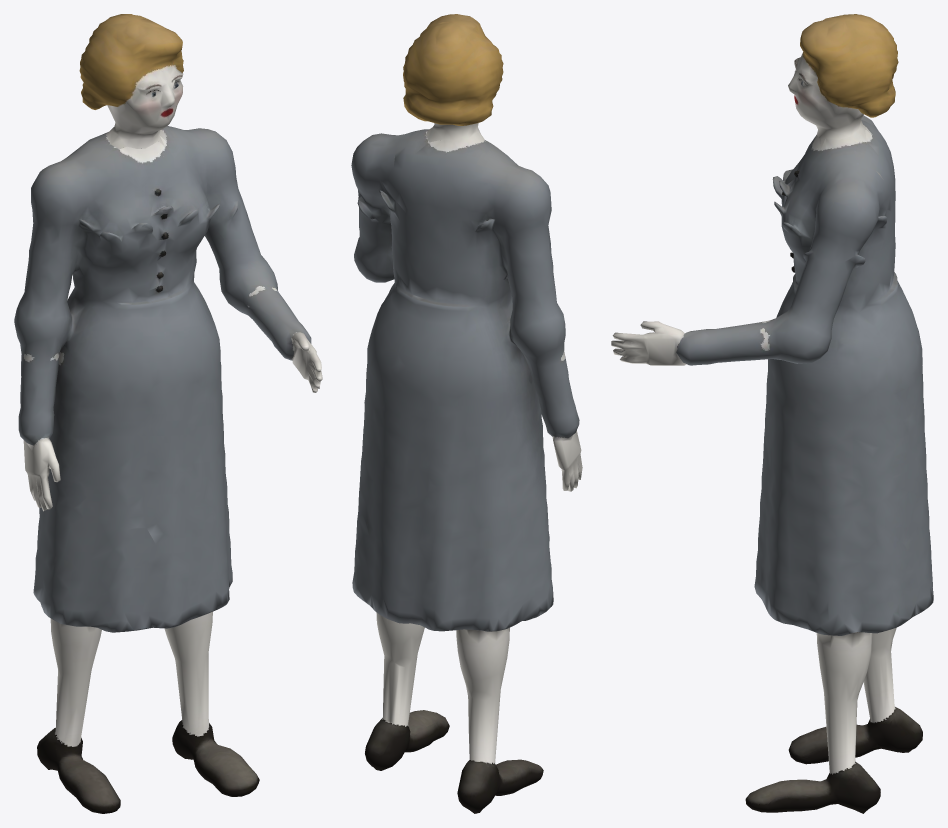
File: mq_woman_dress.glb
The picture shows the model from 3 angles, left to right: view 1: azimuth 30°, elevation 25°; view 2: azimuth 150°, elevation 25°; view 3: azimuth 270°, elevation 25°; orthographic projection.
Visible parts, largest first — view 1: mq_woman_dress, mq_woman_dress_head; view 2: mq_woman_dress, mq_woman_dress_head; view 3: mq_woman_dress, mq_woman_dress_head.
Part boxes in pixels (bbox=[...]): mq_woman_dress: bbox=[14, 126, 322, 813]; mq_woman_dress_head: bbox=[79, 14, 183, 149]; mq_woman_dress: bbox=[351, 129, 582, 813]; mq_woman_dress_head: bbox=[403, 14, 503, 150]; mq_woman_dress: bbox=[611, 115, 933, 813]; mq_woman_dress_head: bbox=[788, 14, 898, 149].
Size of the model in its own units: 0.5607 by 1.74 by 0.6647.
Materials: 1 (1 with a texture image).
